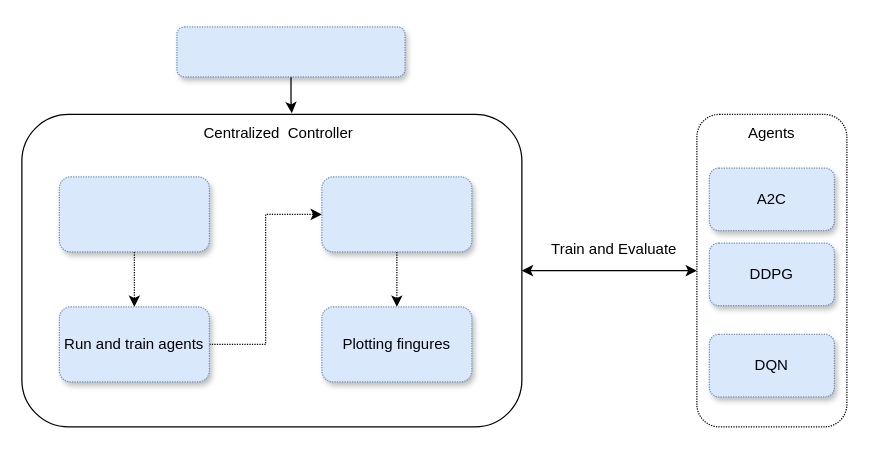
Some shapes in this 869 by 449 pixel diagram are drawn without their labels. The centre of each missing label's shape, as x and y in pixels:
"Evaluate agents and combine A2C and DDPG as multi-agent" goes at pixel 397 216.
"Load datasets" goes at pixel 135 216.
"Selected Features By MCTS" goes at pixel 291 53.
